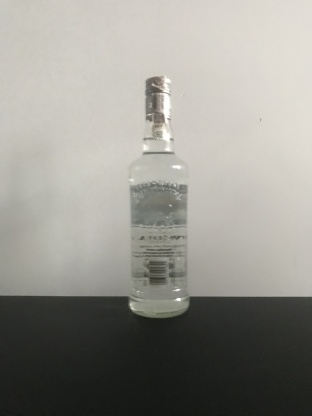nakretka: (143, 73, 173, 122)
